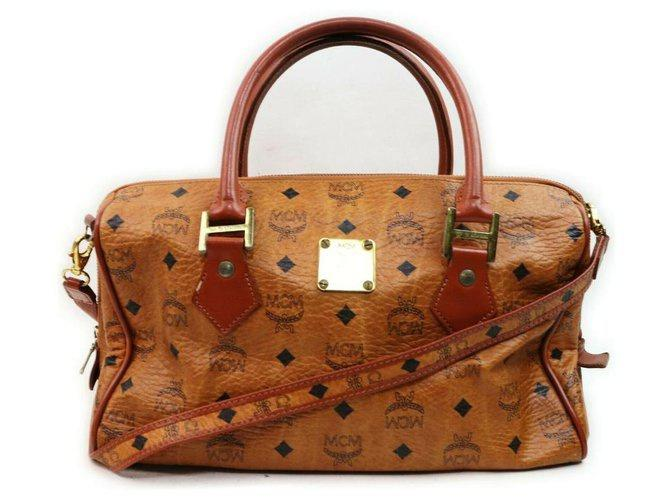MCM: (72, 165, 600, 477)
